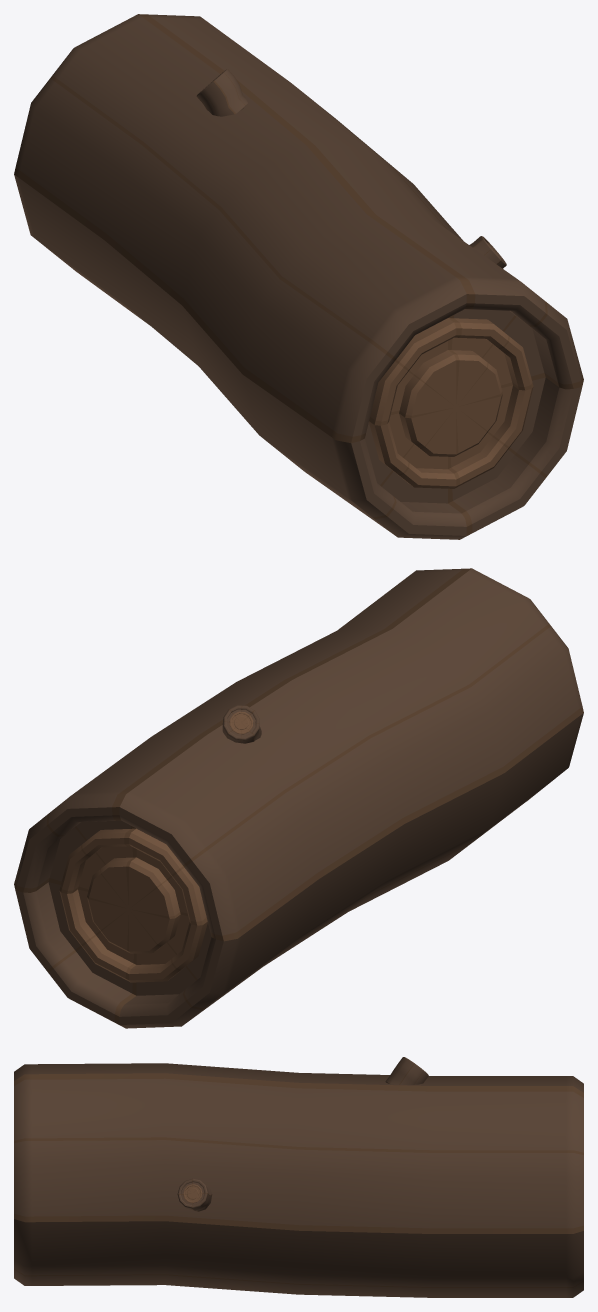
File: Log (5).fbx
The picture shows the model from 3 angles, top to bottom: view 1: azimuth 30°, elevation 25°; view 2: azimuth 150°, elevation 25°; view 3: azimuth 270°, elevation 25°; orthographic projection. The views are drawn at different scales.
Visible parts, largest first — view 1: Right with color.003, Right with color.001, Right with color.002; view 2: Right with color.003, Right with color.001, Right with color.004; view 3: Right with color.003.
Part boxes in pixels (<box>): Right with color.003: <box>14,14,583,539</box>; Right with color.001: <box>369,318,533,488</box>; Right with color.002: <box>369,318,533,488</box>; Right with color.003: <box>14,568,583,1028</box>; Right with color.001: <box>59,828,207,982</box>; Right with color.004: <box>59,828,207,982</box>; Right with color.003: <box>14,1057,583,1297</box>.
Bounding box in the file's own units: 227 × 220 × 512.
